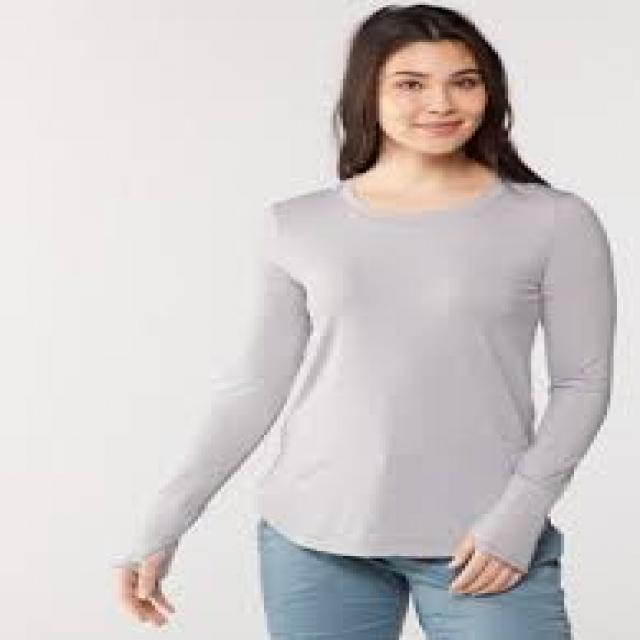plain: (255, 171, 620, 548)
